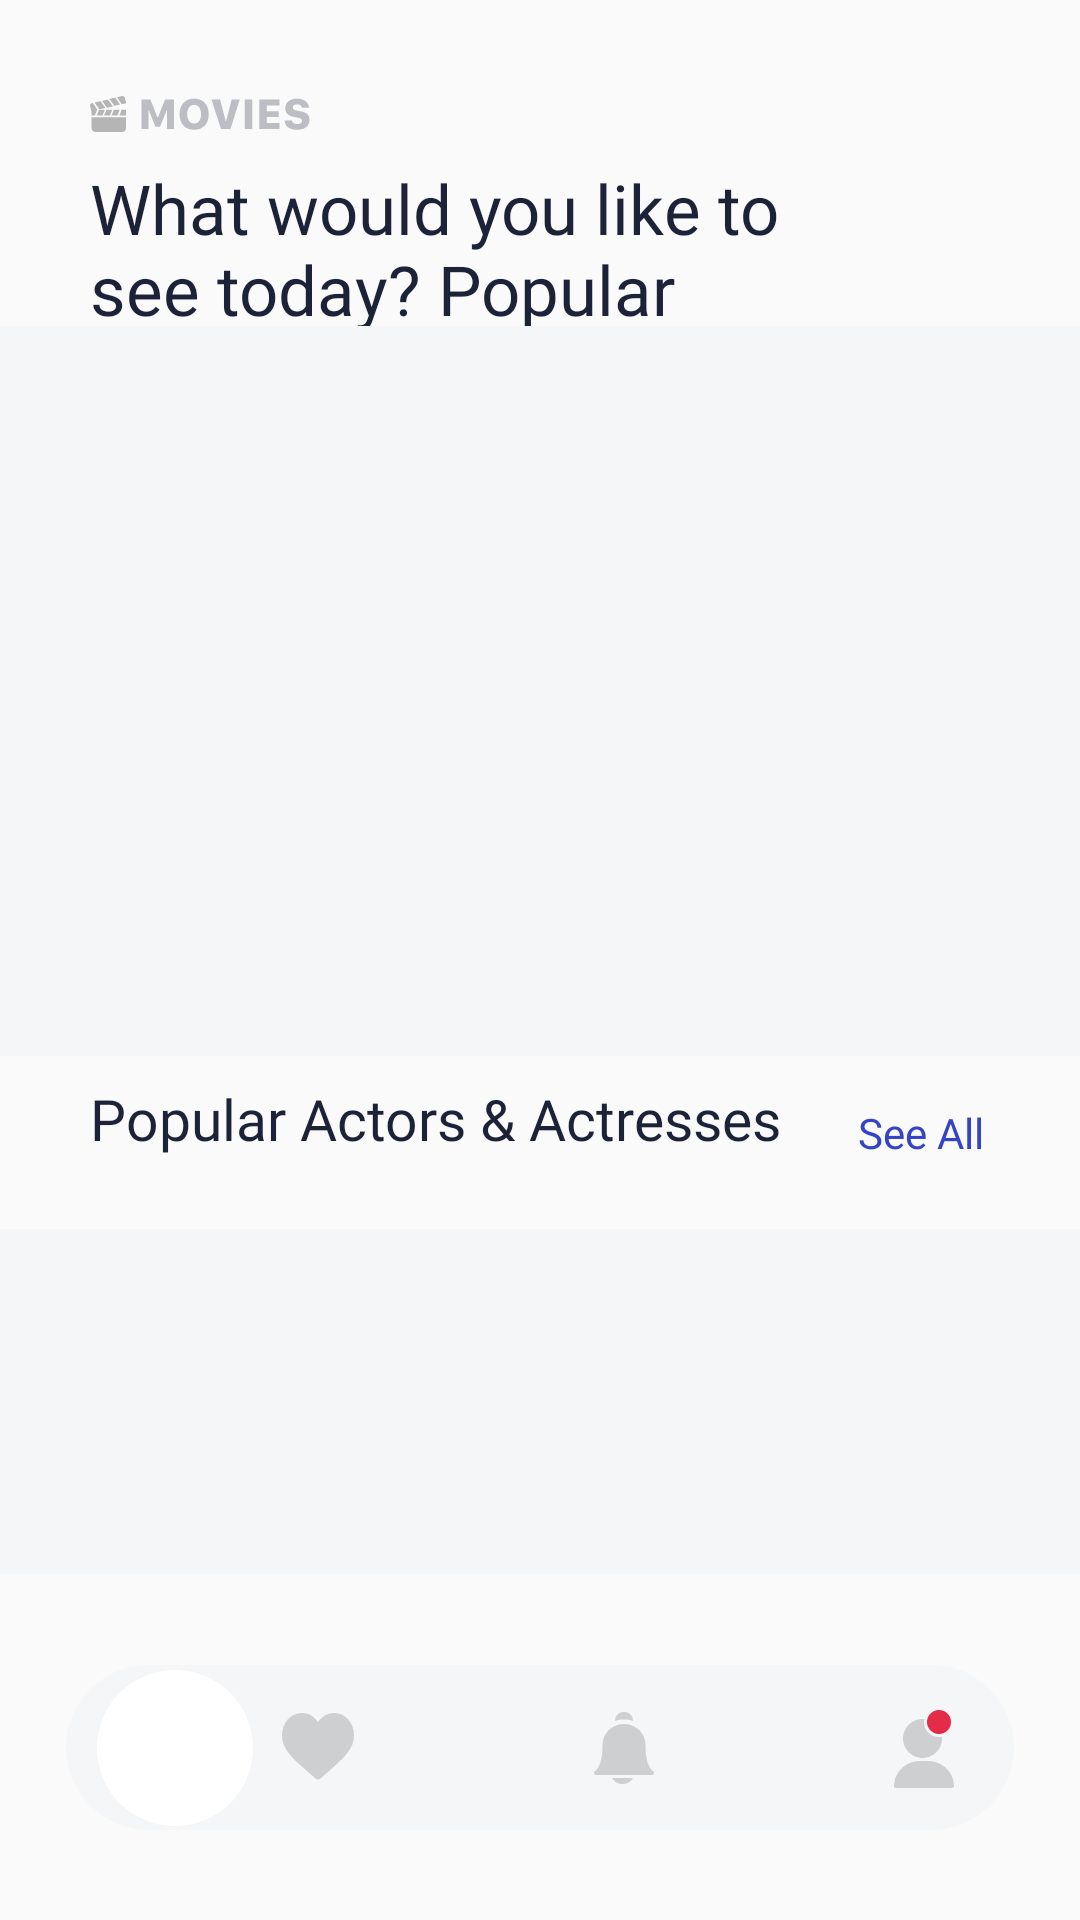

Point at icon controls on the screen. Image size 1080px×1920px, points as point (x, y).
notifications: point (624, 1748)
profile: point (924, 1749)
